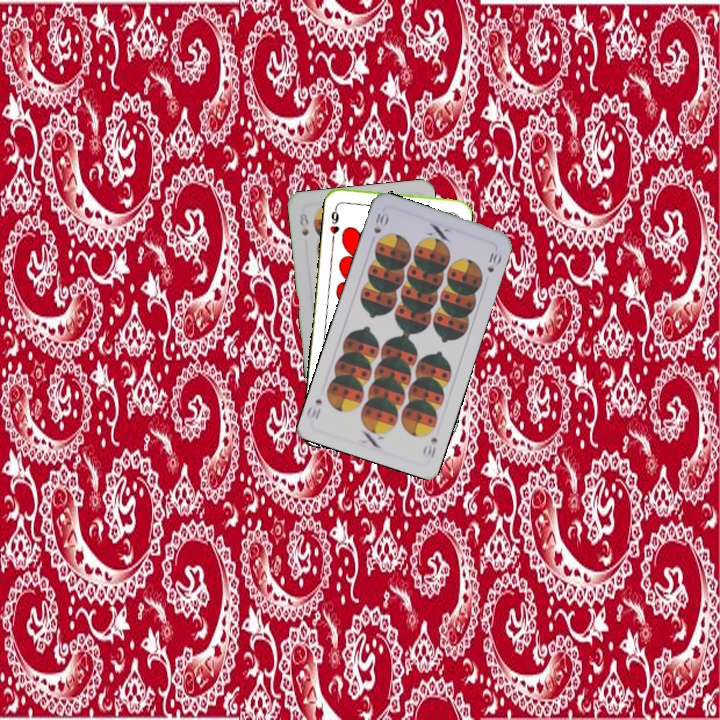H9: (326, 201, 342, 242)
S10: (369, 209, 391, 236), (419, 433, 440, 460)
S8: (296, 209, 311, 239)
